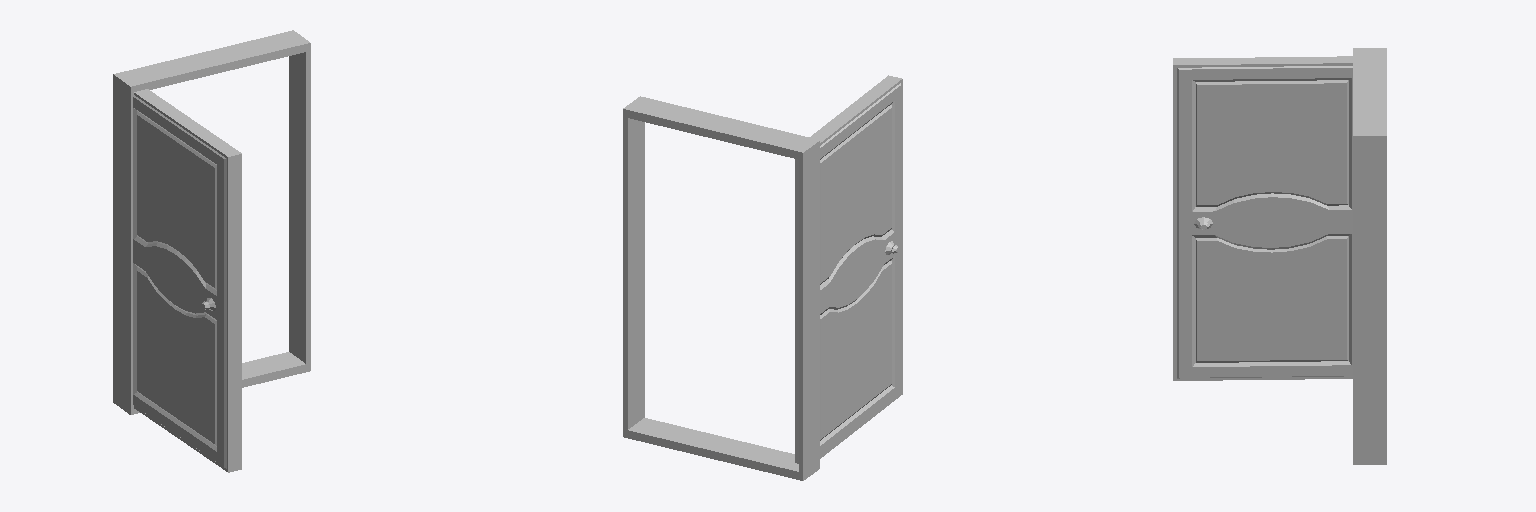
Rendered from drzwiOOO.obj.
The picture shows the model from 3 angles: view 1: azimuth 30°, elevation 25°; view 2: azimuth 150°, elevation 25°; view 3: azimuth 270°, elevation 25°; orthographic projection.
Visible parts, largest first — view 1: Door_4.001_Cube.001, Kostka; view 2: Door_4.001_Cube.001, Kostka; view 3: Door_4.001_Cube.001, Kostka.
Part boxes in pixels (x1,y1,x2,y2): Door_4.001_Cube.001: (133,89,241,472); Kostka: (113,30,310,414); Door_4.001_Cube.001: (795,75,902,463); Kostka: (623,96,819,480); Door_4.001_Cube.001: (1173,56,1352,380); Kostka: (1353,48,1386,464).
Bounding box in the file's own units: 0.7511 × 1.29 × 0.7642.